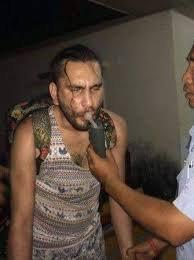Drunk: (64, 63, 105, 127)
